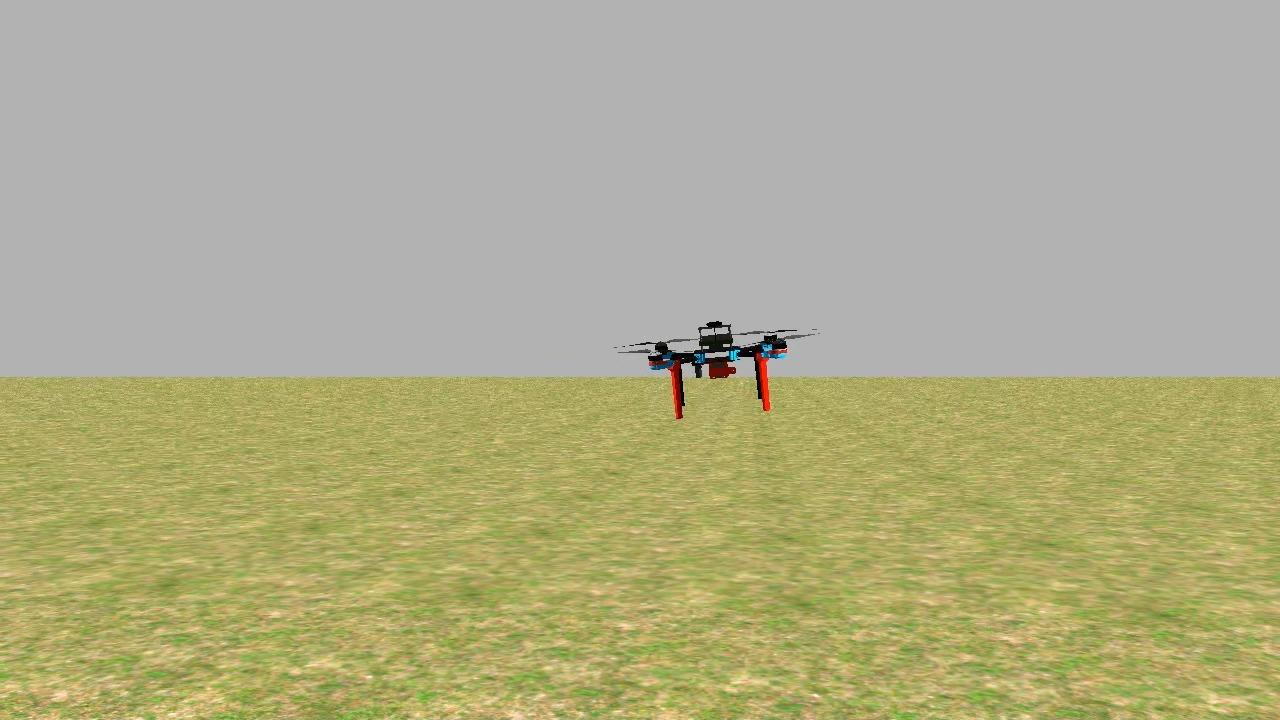UAV: (637, 311, 805, 426)
